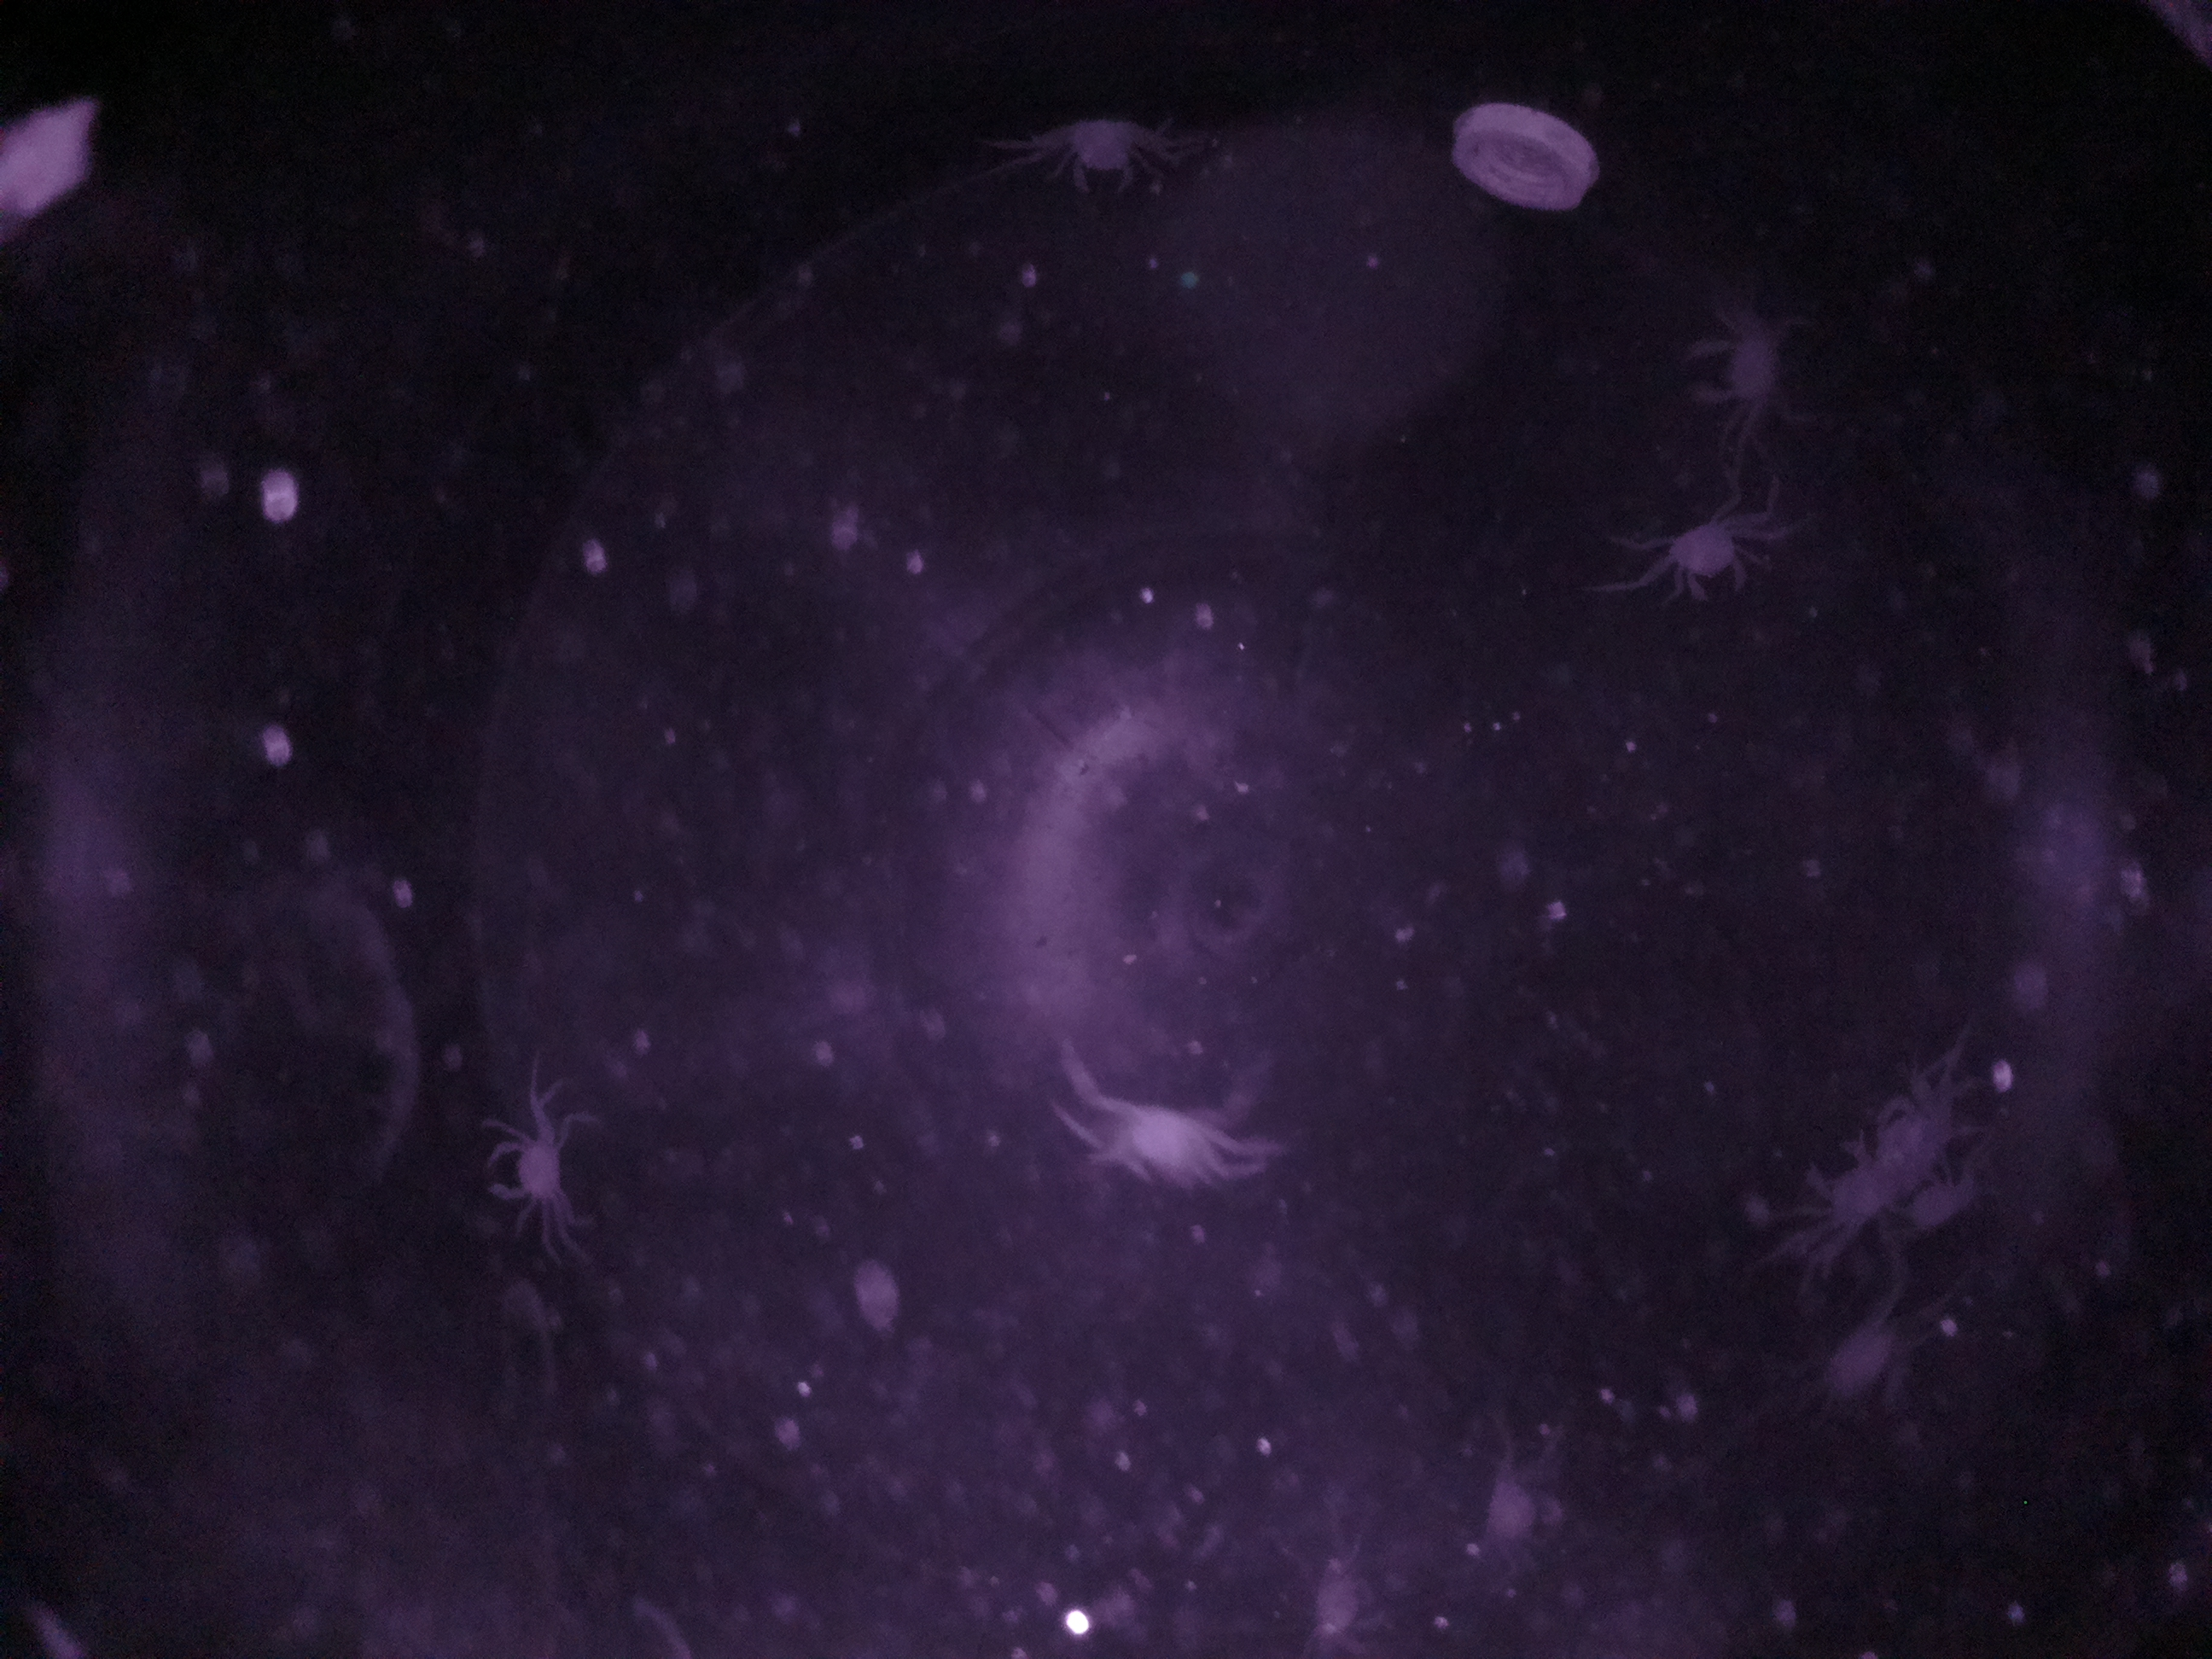Crab: (1672, 315, 1822, 430), (467, 1108, 603, 1229), (1651, 500, 1764, 619), (1036, 98, 1157, 209)
